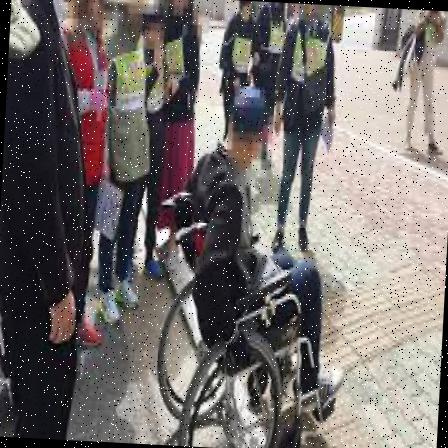wheel: (152, 84, 358, 447)
